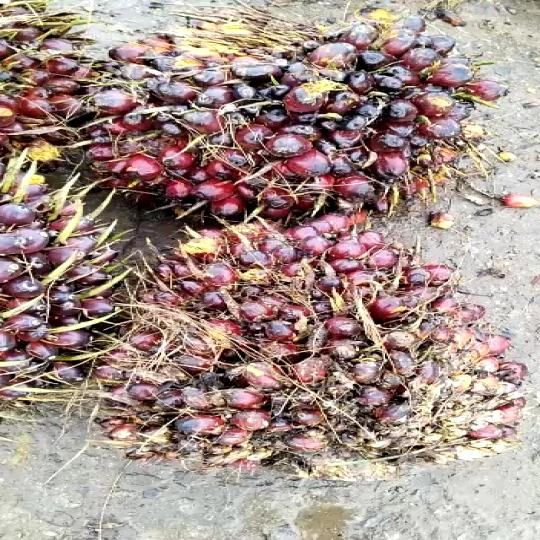kurang masak: (119, 224, 540, 487), (93, 8, 504, 236), (0, 155, 140, 405)
